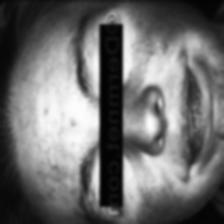Non-Cancerous Skin Condition: (135, 6, 181, 60), (42, 103, 82, 153), (139, 170, 181, 216)
